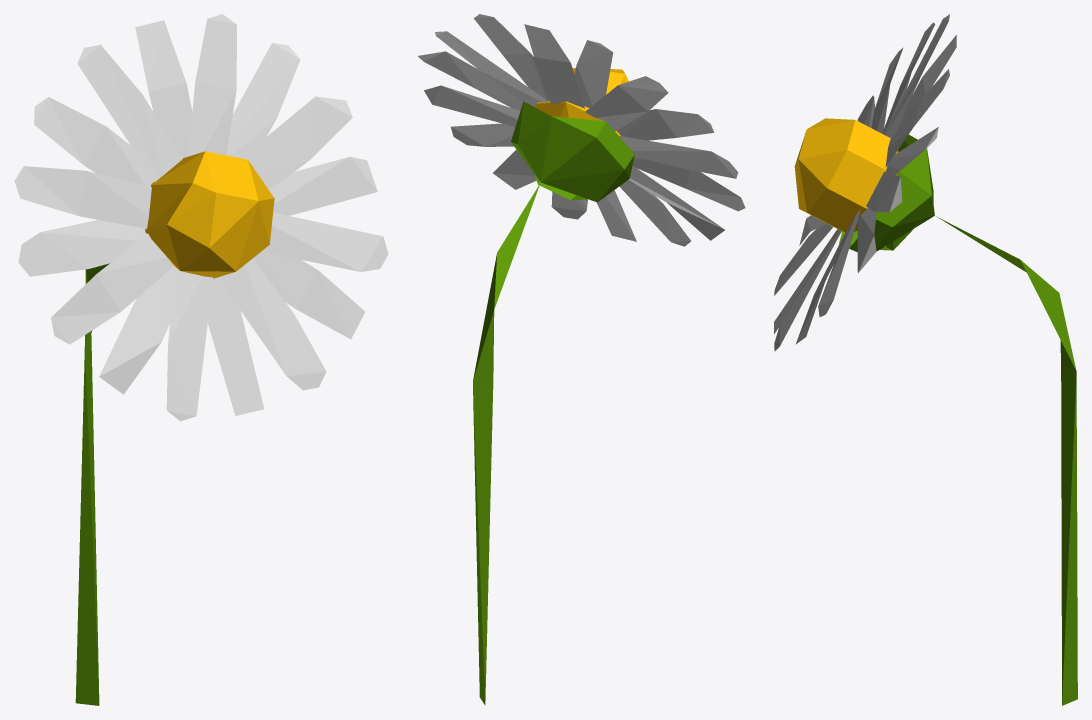
File: plant_flower_1.glb
3 views of the same model, side by side, from view 1: azimuth 30°, elevation 25°; view 2: azimuth 150°, elevation 25°; view 3: azimuth 270°, elevation 25° (orthographic). The views are drawn at different scales.
Parts seen in each view (by area): view 1: plant_flower_1; view 2: plant_flower_1; view 3: plant_flower_1.
Boxes of the visible parts, bbox=[...] form: plant_flower_1: bbox=[14, 14, 388, 705]; plant_flower_1: bbox=[418, 14, 745, 705]; plant_flower_1: bbox=[774, 14, 1077, 705].
Size of the model in its own units: 0.2536 by 0.496 by 0.2063.
